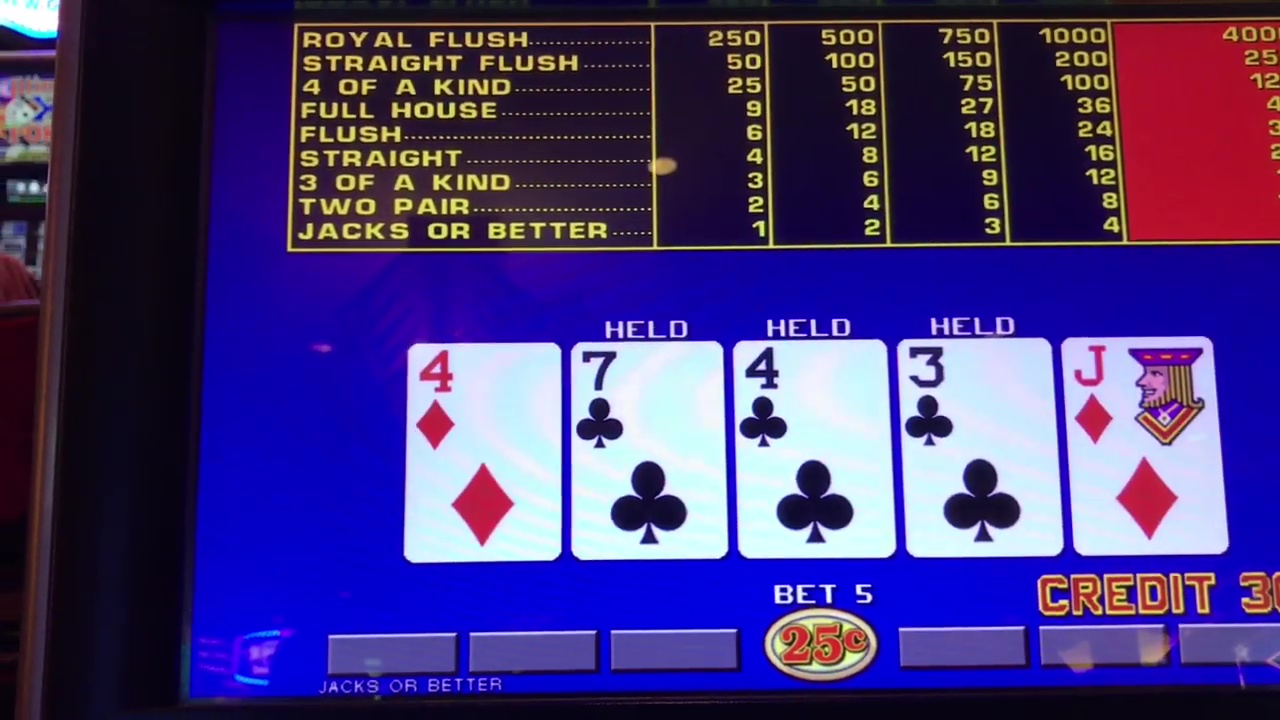C3: (902, 340, 1053, 554)
C4: (741, 343, 885, 555)
C7: (573, 345, 725, 558)
D4: (409, 346, 558, 561)
DJ: (1071, 337, 1218, 555)
